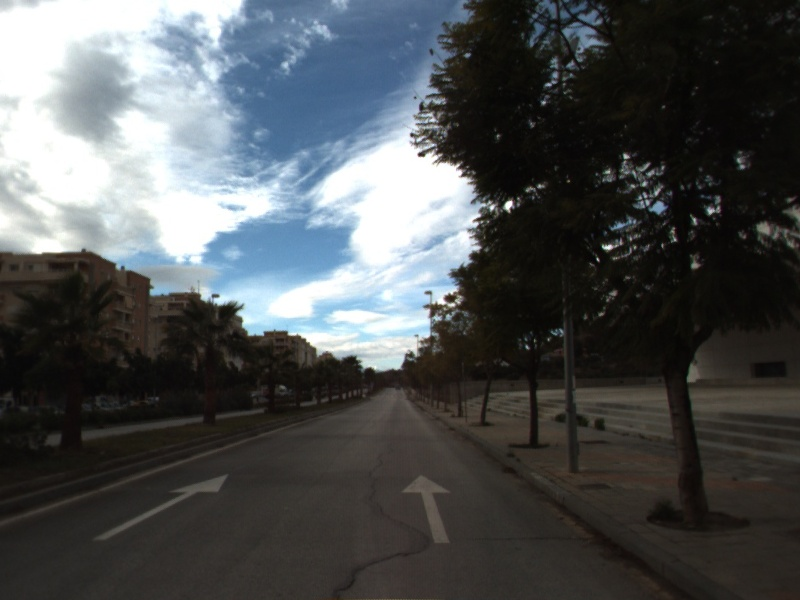STRAIGHT: (91, 472, 231, 542), (399, 472, 453, 545)
